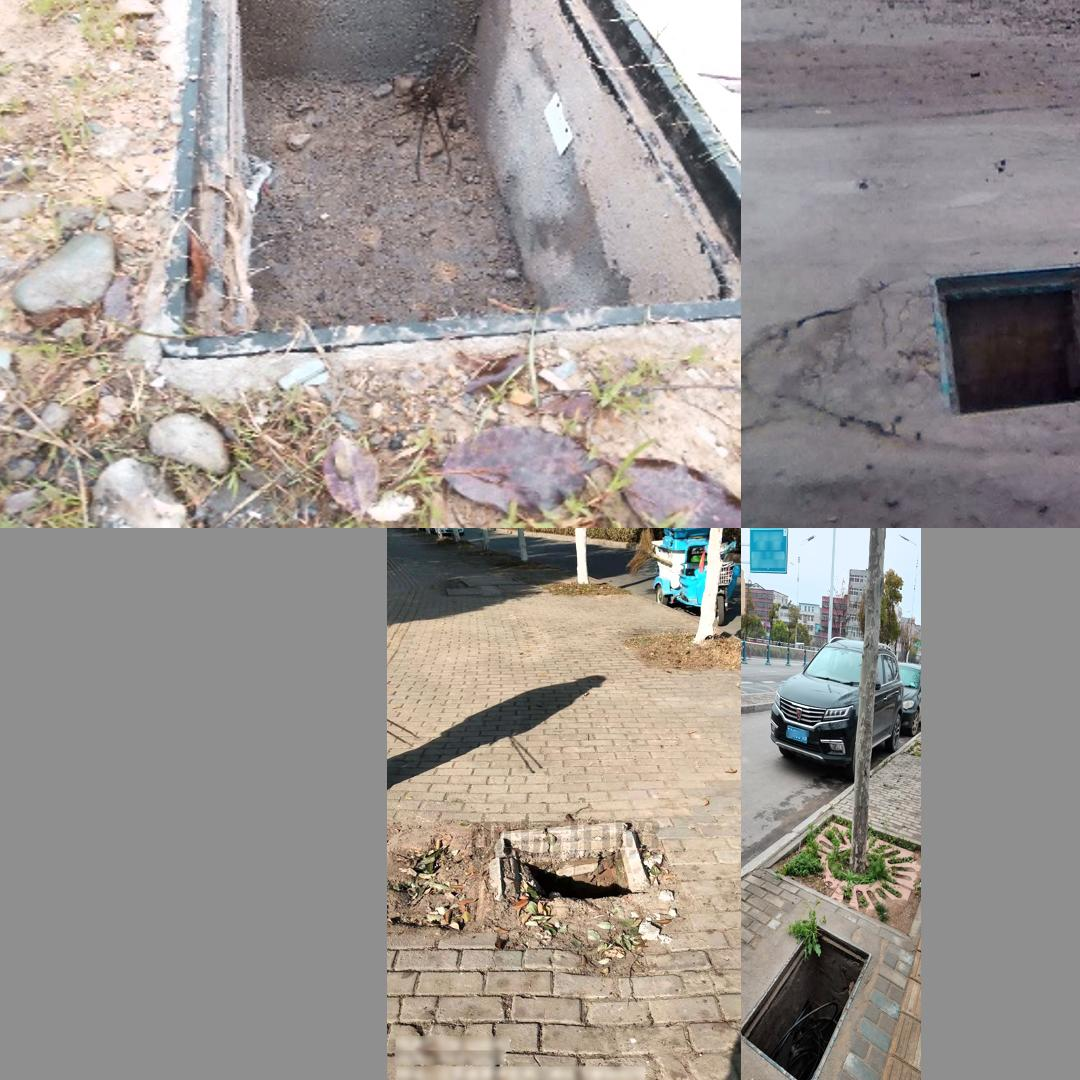lose: (155, 0, 741, 359), (935, 236, 1080, 416), (741, 927, 871, 1080), (491, 822, 660, 904)
